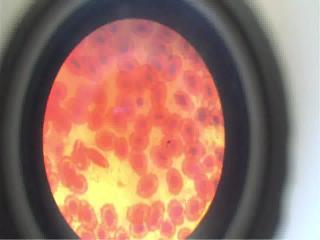cell: (184, 196, 203, 222), (94, 81, 110, 111), (134, 177, 160, 195), (174, 92, 196, 113), (102, 205, 124, 226), (149, 146, 171, 167), (94, 129, 116, 150), (202, 75, 219, 102), (148, 200, 162, 231), (146, 105, 170, 123), (130, 18, 152, 37), (70, 99, 86, 124), (87, 110, 105, 132), (182, 158, 204, 176), (152, 81, 168, 105), (116, 40, 138, 57), (183, 69, 199, 92), (168, 199, 184, 222), (186, 142, 209, 158), (147, 51, 166, 70), (166, 58, 181, 82), (158, 23, 176, 43), (130, 152, 148, 172), (195, 178, 213, 198), (66, 52, 82, 74), (116, 57, 138, 73), (184, 123, 202, 142), (135, 115, 155, 132), (194, 107, 213, 124), (140, 67, 156, 87), (83, 204, 99, 224), (126, 200, 142, 220), (67, 197, 82, 218), (170, 172, 184, 194), (96, 49, 115, 65), (58, 158, 71, 181), (90, 29, 108, 45), (73, 179, 91, 195), (85, 56, 98, 78), (132, 133, 151, 147), (109, 20, 122, 38)
